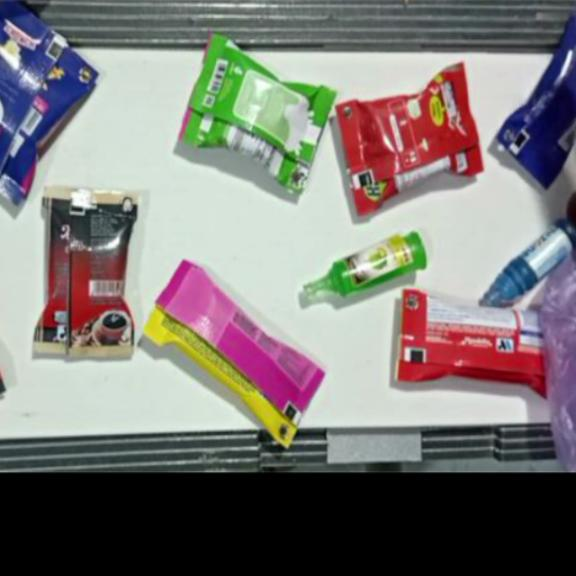Plastik: (143, 260, 326, 449), (177, 37, 337, 194), (337, 62, 484, 216), (0, 0, 99, 204), (34, 187, 139, 359), (393, 288, 546, 399), (495, 13, 576, 191), (301, 230, 428, 300), (482, 219, 574, 309), (546, 255, 576, 469)
